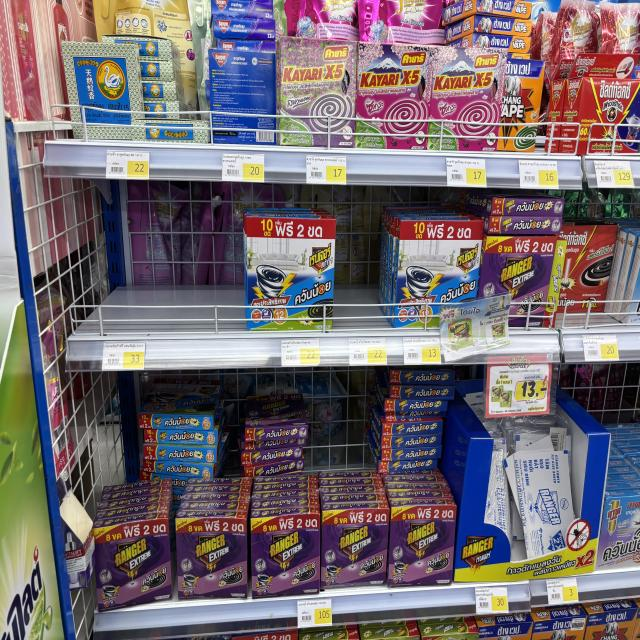empty_shelf: (75, 206, 246, 334), (332, 210, 395, 331)
